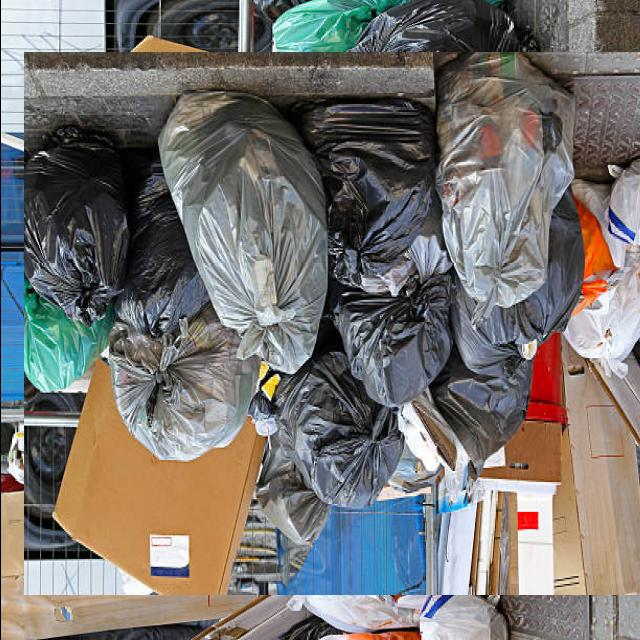garbage: (46, 30, 634, 618)
